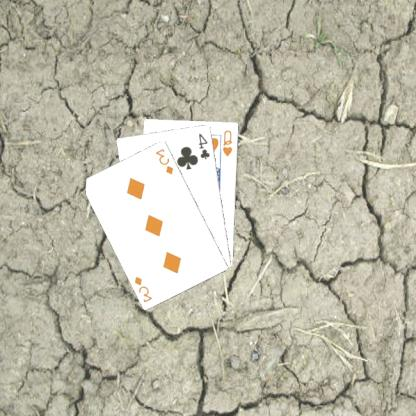3D: (154, 145, 177, 176), (133, 274, 156, 304)
4C: (198, 130, 213, 160)
QH: (222, 127, 236, 157)
